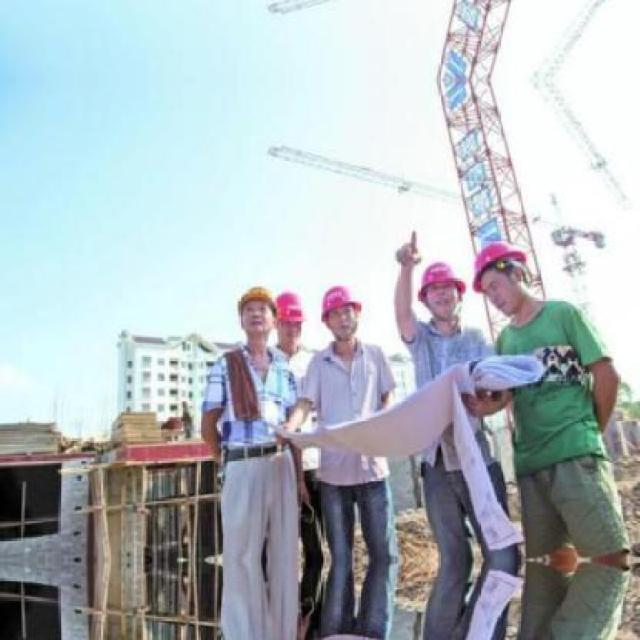helmet: (467, 231, 539, 320), (414, 255, 466, 323), (318, 279, 362, 346), (236, 279, 276, 346), (271, 288, 307, 343)
